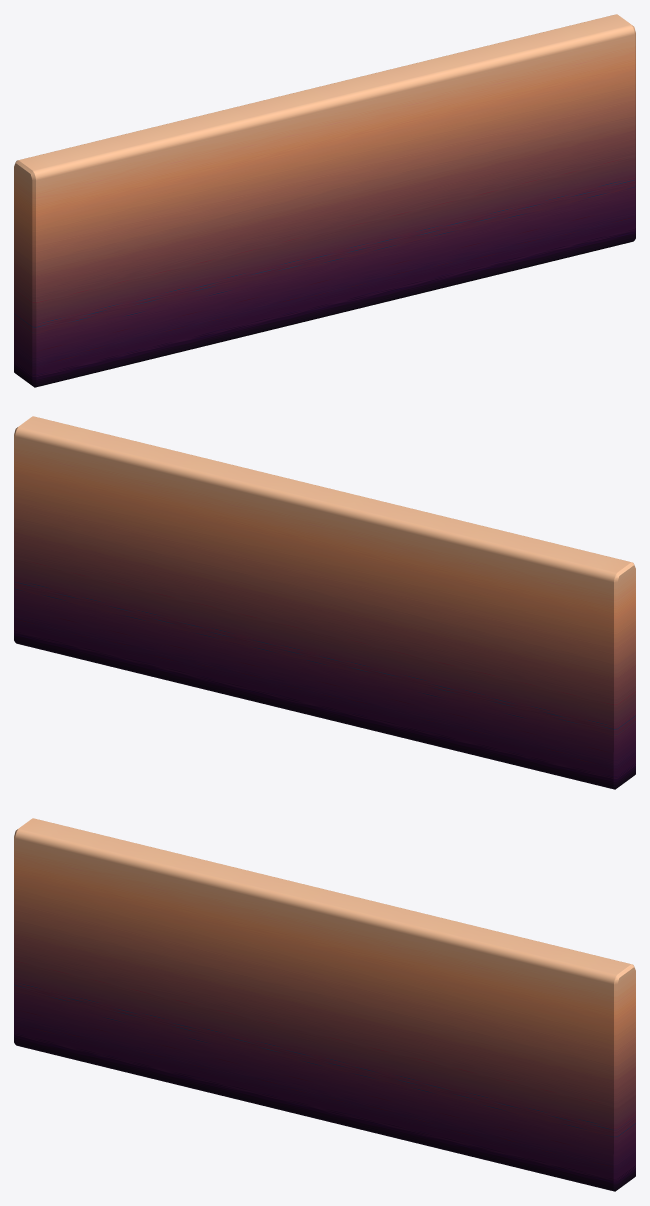
The model's file is FencePanel.fbx.
3 renders of one model, top to bottom at view 1: azimuth 30°, elevation 25°; view 2: azimuth 150°, elevation 25°; view 3: azimuth 330°, elevation 25°, orthographic.
Parts seen in each view (by area): view 1: pCube1; view 2: pCube1; view 3: pCube1.
Boxes of the visible parts, bbox=[...] form: pCube1: bbox=[14, 14, 635, 387]; pCube1: bbox=[14, 416, 635, 789]; pCube1: bbox=[14, 818, 635, 1191].
Bounding box in the file's own units: 766 × 261 × 46.43.
Materials: 1 (1 with a texture image).
